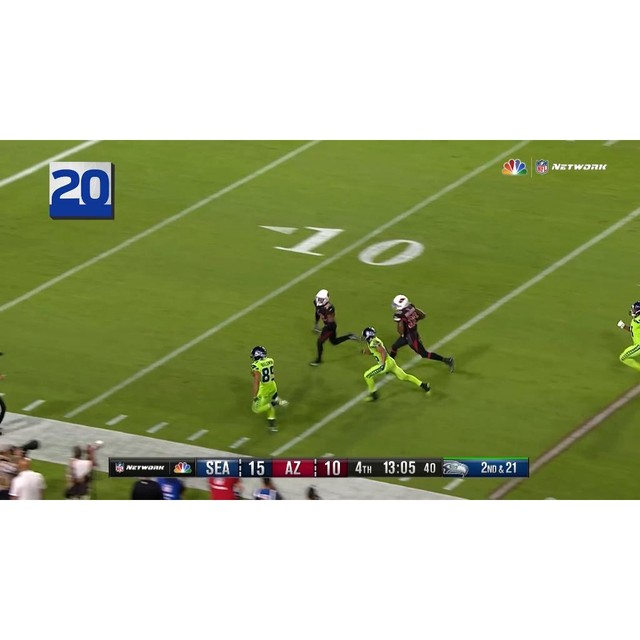american-football-player: (361, 327, 430, 402), (392, 294, 455, 373), (309, 288, 358, 366), (248, 346, 290, 433), (616, 302, 639, 386)
